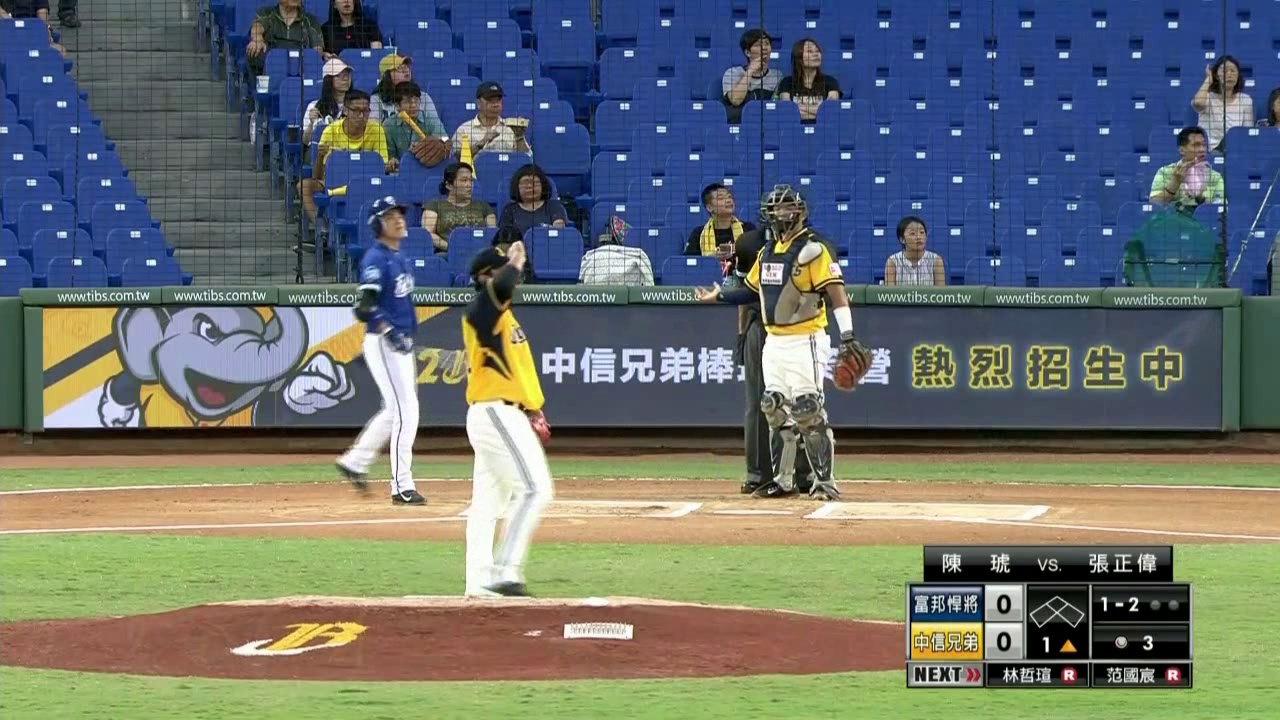base: (1030, 584, 1091, 633)
bat: (411, 348, 472, 374)
out: (1144, 594, 1183, 615)
score1: (989, 589, 1021, 618)
score2: (989, 626, 1021, 655)
session: (1031, 634, 1086, 656)
strikeball: (1098, 590, 1142, 616)
total: (1106, 631, 1159, 653)
